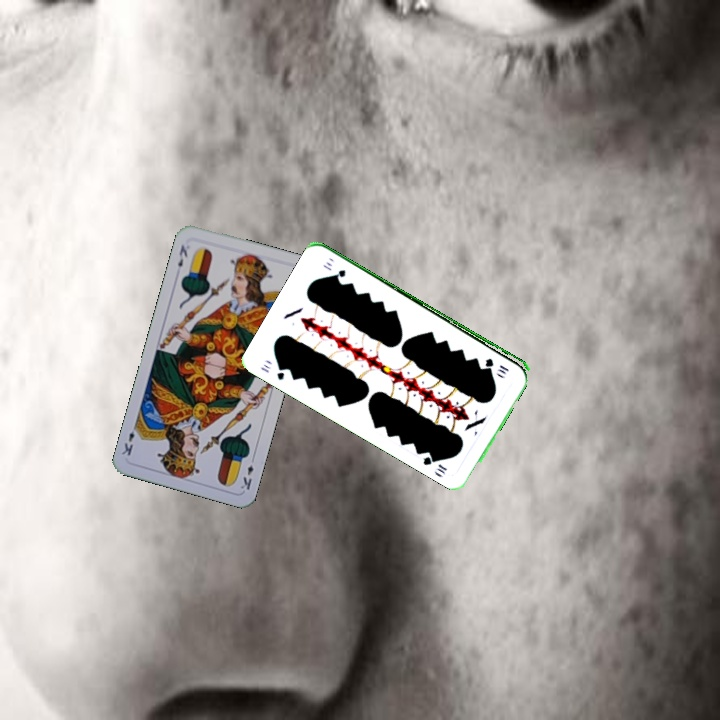EK: (236, 452, 258, 493), (174, 241, 190, 269)
G10: (257, 360, 288, 382), (481, 354, 511, 374)
